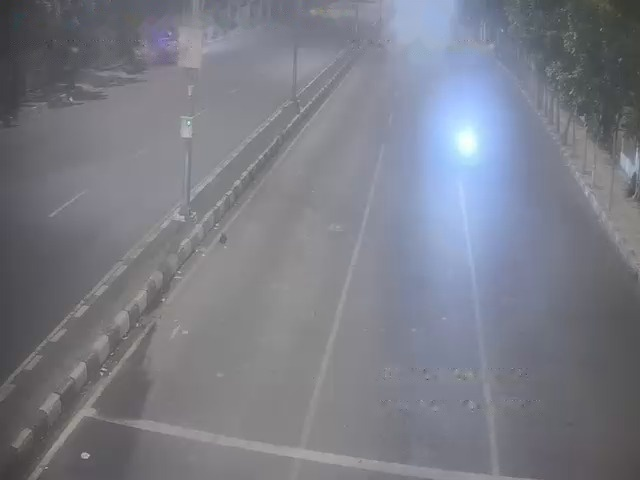Motor: (450, 123, 492, 165)
